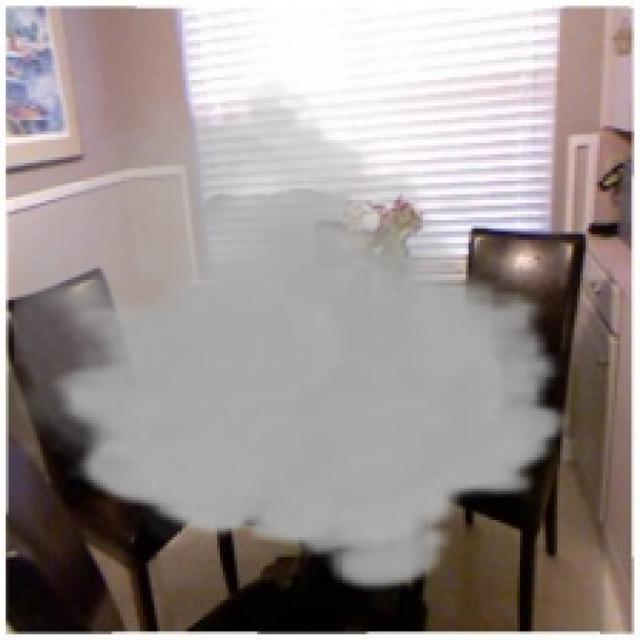smoke: (14, 77, 572, 594)
